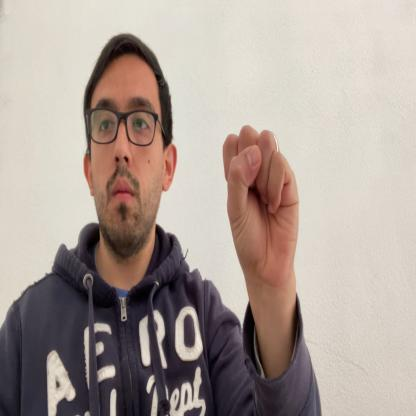S: (223, 125, 300, 294)
